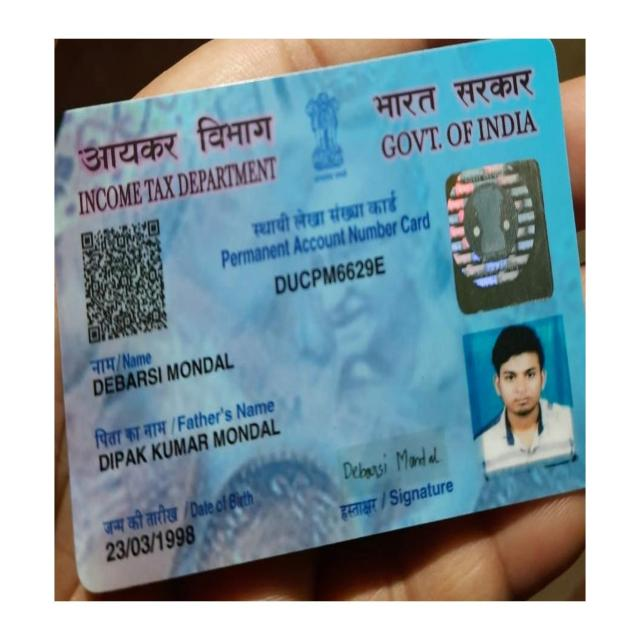pan_card: (61, 34, 586, 589)
